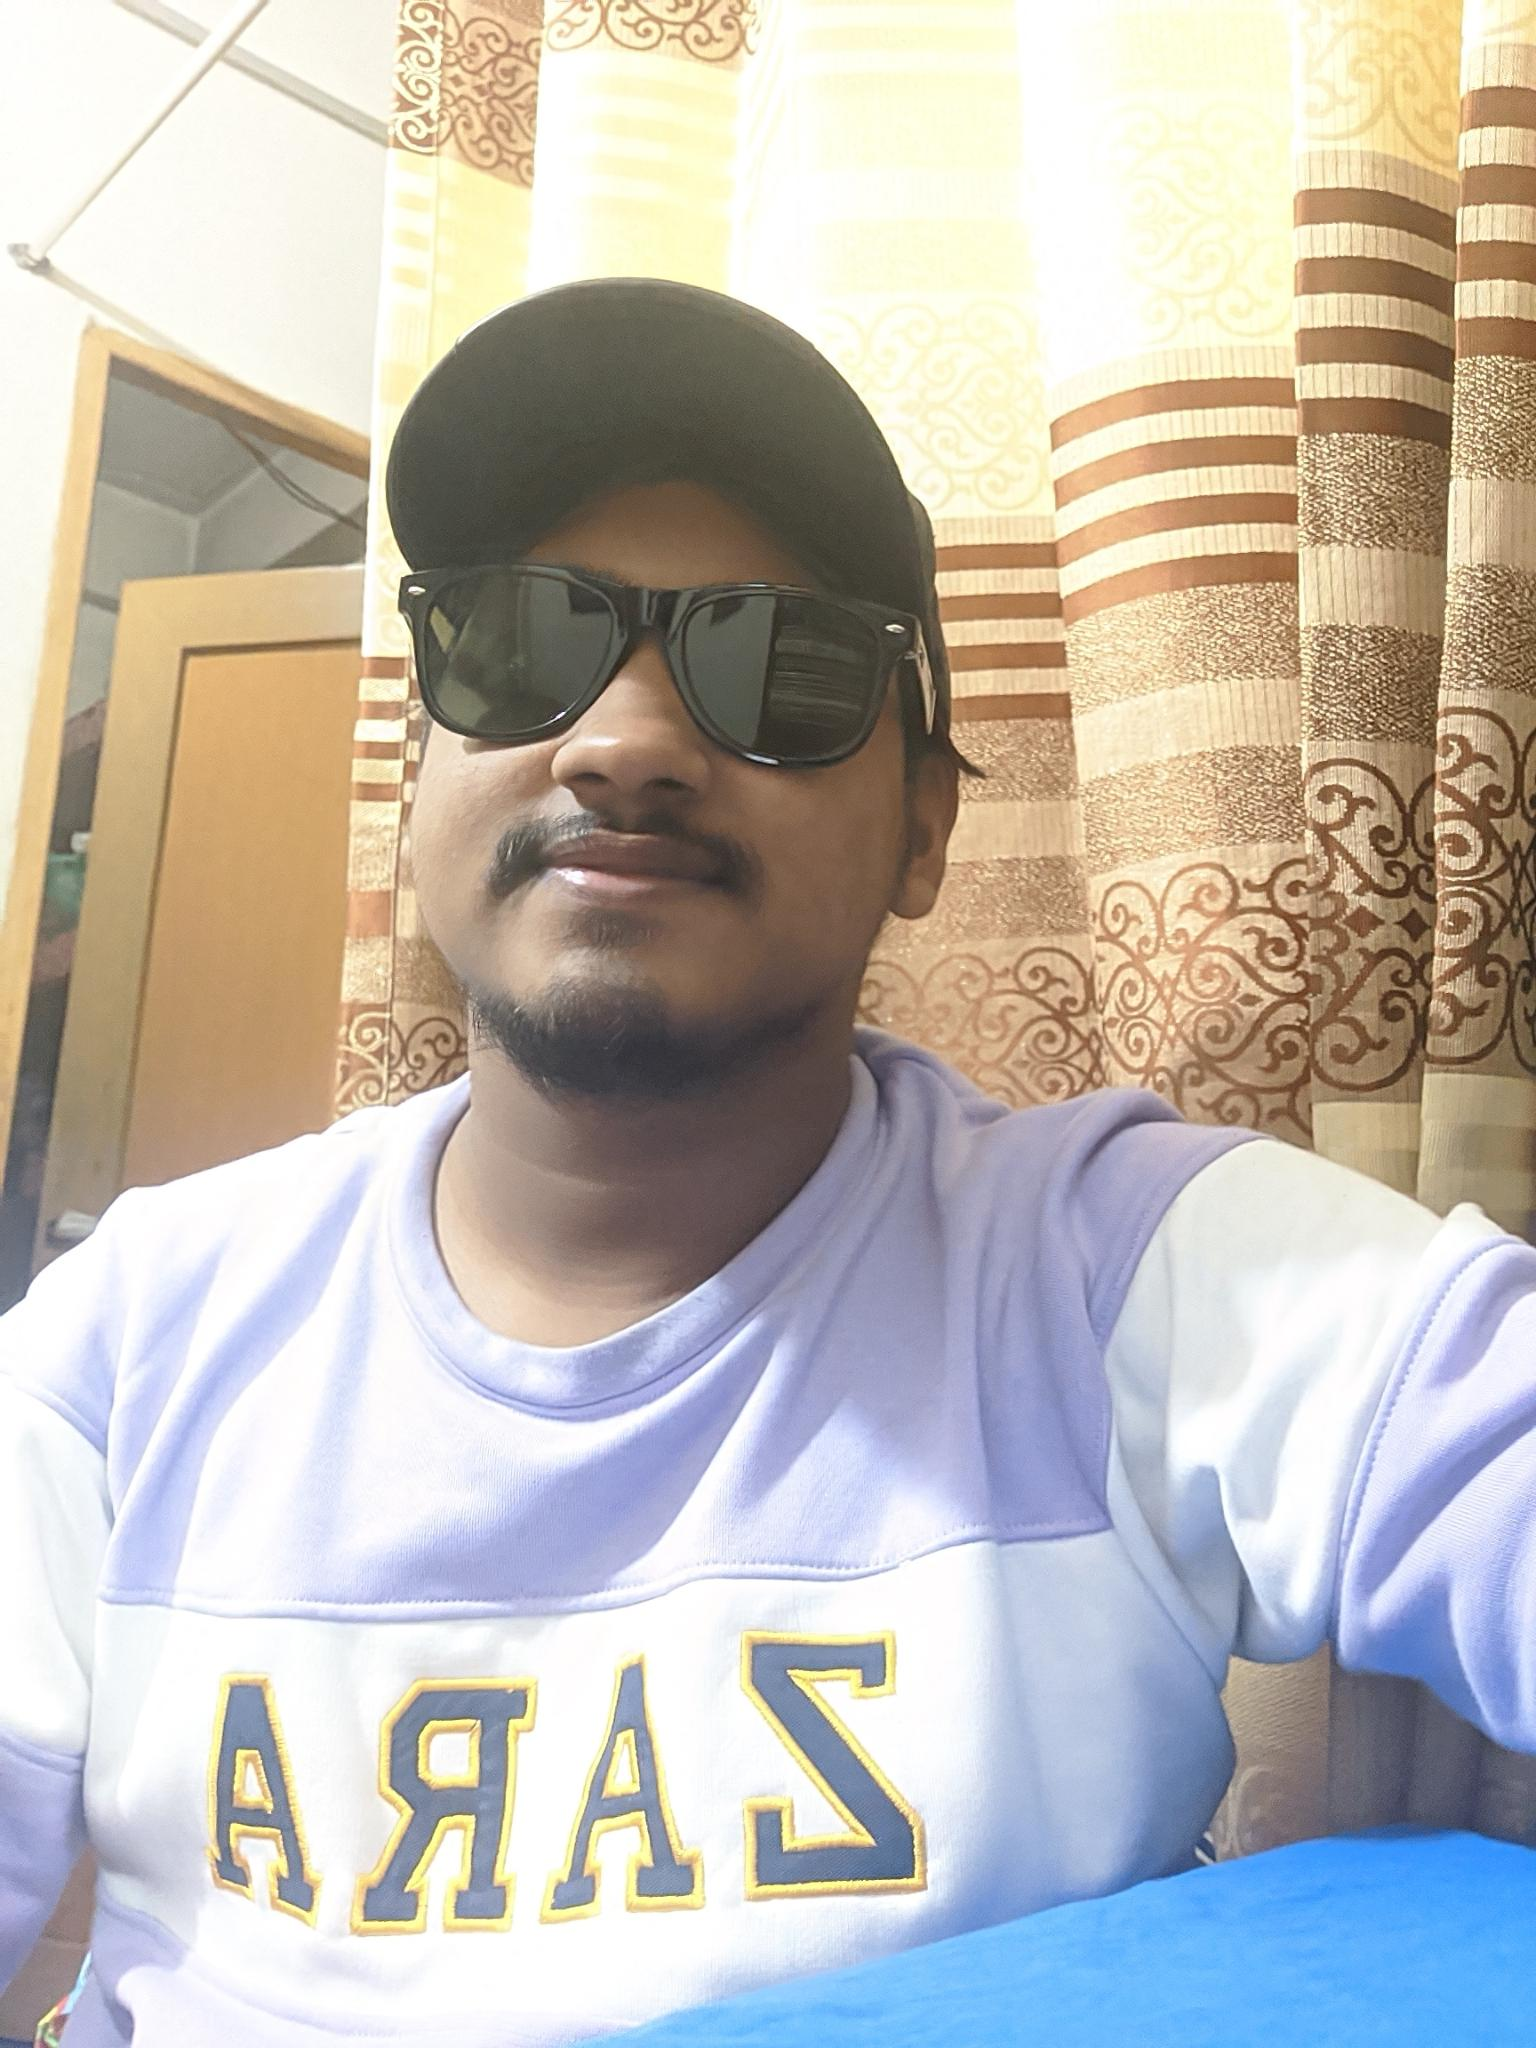Happy: (397, 566, 863, 1077)
